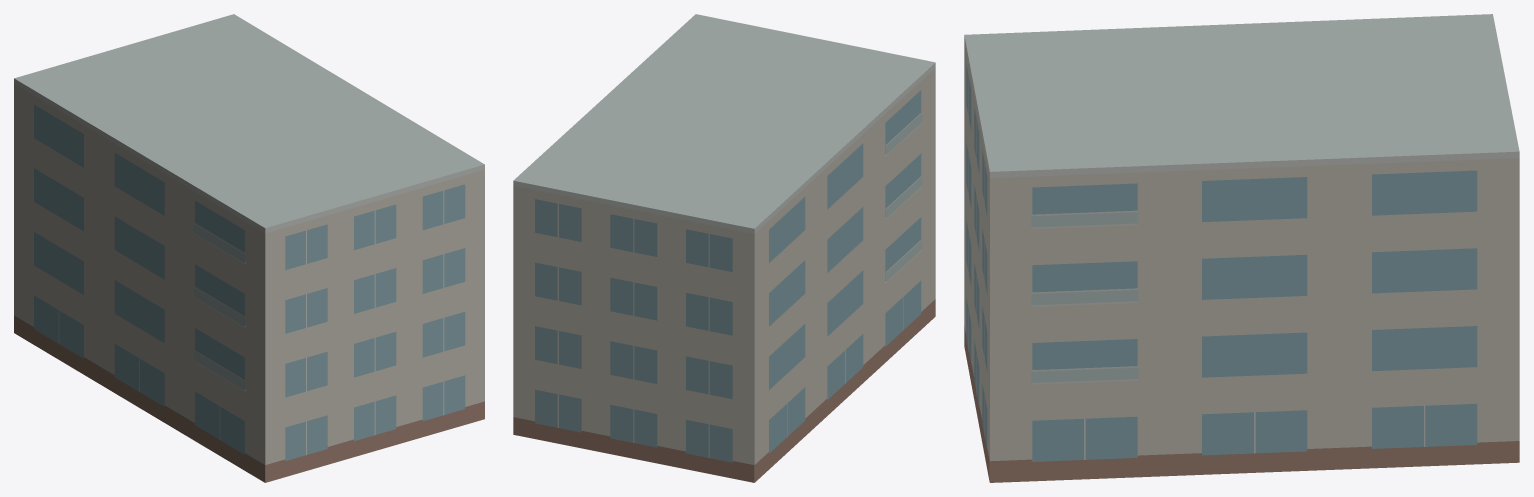
Rendered from survey-upis-33031016.glb.
3 renders of one model, left to right at view 1: azimuth 30°, elevation 25°; view 2: azimuth 150°, elevation 25°; view 3: azimuth 270°, elevation 25°, orthographic. The views are drawn at different scales.
Visible parts, largest first — view 1: survey-upis-33031016.tmp; view 2: survey-upis-33031016.tmp; view 3: survey-upis-33031016.tmp.
Boxes of the visible parts, left/top/right/bottom form: survey-upis-33031016.tmp: left=14, top=14, right=484, bottom=482; survey-upis-33031016.tmp: left=513, top=14, right=935, bottom=482; survey-upis-33031016.tmp: left=964, top=14, right=1519, bottom=482.
Bounding box in the file's own units: 13.07 × 12 × 19.43.
